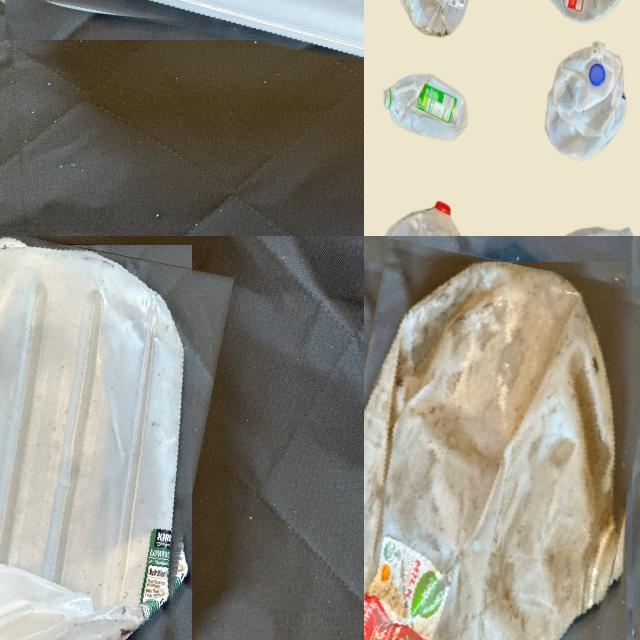milk-jug: (364, 250, 640, 640), (0, 236, 213, 640), (0, 0, 364, 63), (548, 42, 636, 154), (381, 72, 476, 146), (371, 193, 465, 236), (394, 0, 474, 40)
